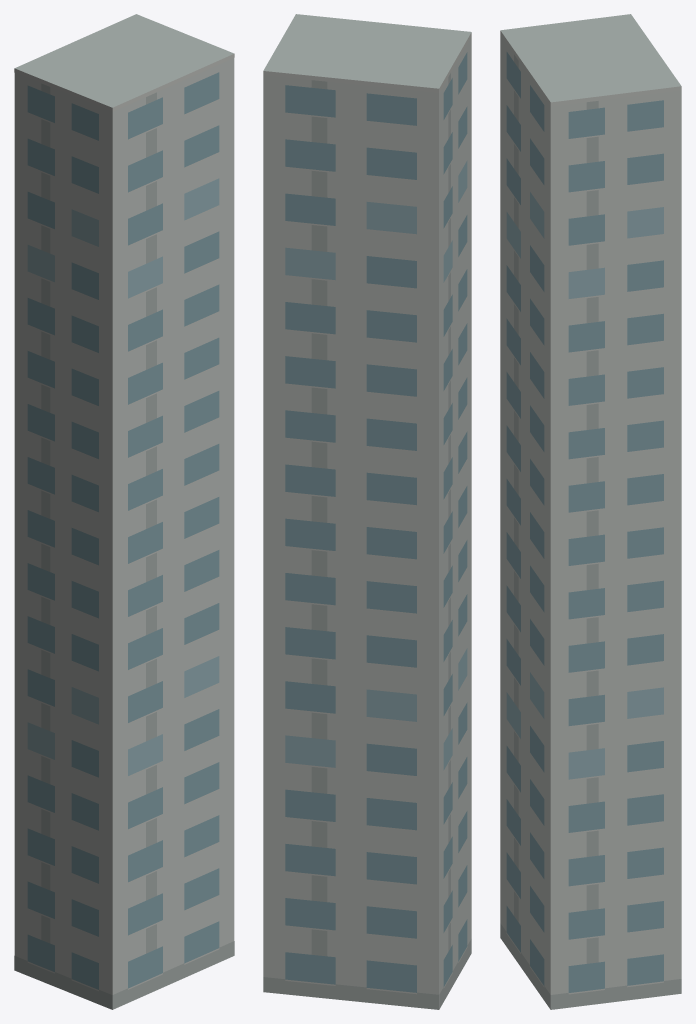
Rendered from survey-upis-32700315.glb.
3 views of the same model, side by side, from view 1: azimuth 30°, elevation 25°; view 2: azimuth 150°, elevation 25°; view 3: azimuth 270°, elevation 25° (orthographic). The views are drawn at different scales.
Parts seen in each view (by area): view 1: survey-upis-32700315.tmp; view 2: survey-upis-32700315.tmp; view 3: survey-upis-32700315.tmp.
Part boxes in pixels (box(x1,y1,x2,y2)): survey-upis-32700315.tmp: box(14, 14, 234, 1009); survey-upis-32700315.tmp: box(263, 14, 471, 1009); survey-upis-32700315.tmp: box(500, 14, 681, 1009).
Bounding box in the file's own units: 10.84 × 51.85 × 9.4.
